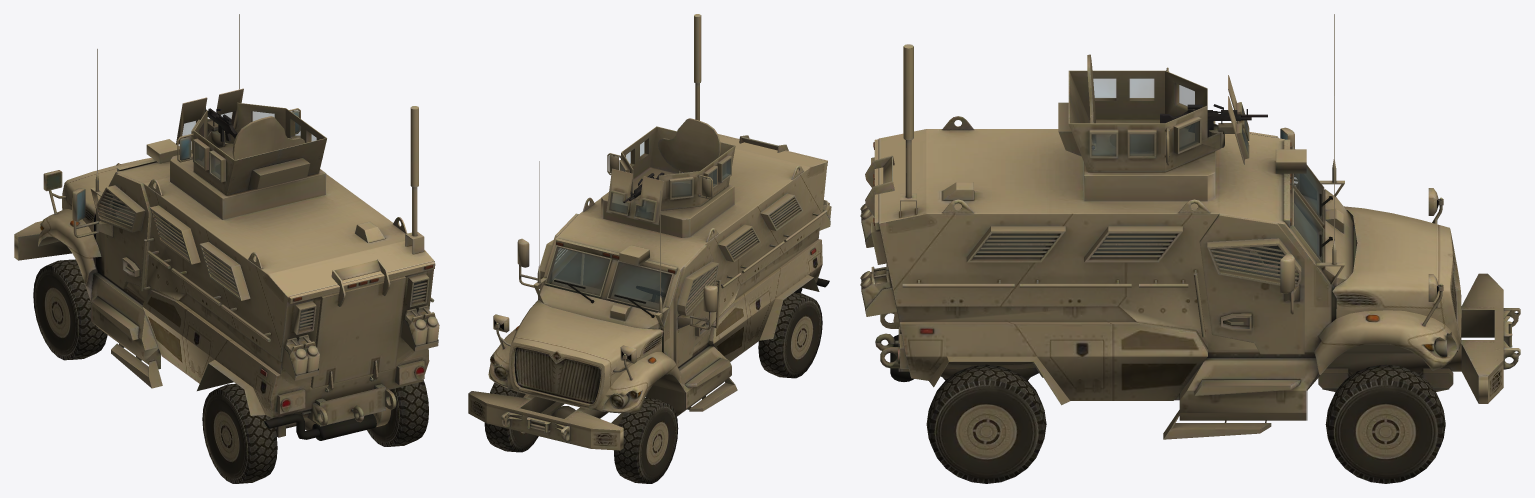
Rendered from maxx-pro-mrap-cert.glb.
3 renders of one model, left to right at view 1: azimuth 30°, elevation 25°; view 2: azimuth 150°, elevation 25°; view 3: azimuth 270°, elevation 25°, orthographic. The views are drawn at different scales.
Visible parts, largest first — view 1: MaxxPro_Hull_01_MaxxPro_Mat_0, wheel2_MaxxPro_Mat_0, wheel1_MaxxPro_Mat_0, MxPro_Turret_01_MaxxPro_Mat_Glas_0; view 2: MaxxPro_Hull_01_MaxxPro_Mat_0, wheel2_MaxxPro_Mat_0, MaxxPro_Hull_01_MaxxPro_Mat_Glas_0, wheel1_MaxxPro_Mat_0, MxPro_Turret_01_MaxxPro_Mat_Glas_0; view 3: MaxxPro_Hull_01_MaxxPro_Mat_0, wheel2_MaxxPro_Mat_0, MxPro_Turret_01_MaxxPro_Mat_Glas_0, MaxxPro_Hull_01_MaxxPro_Mat_Glas_0.
Boxes of the visible parts, x1,y1,x2,y2 form: MaxxPro_Hull_01_MaxxPro_Mat_0: (14, 14, 439, 440); wheel2_MaxxPro_Mat_0: (72, 88, 428, 483); wheel1_MaxxPro_Mat_0: (33, 259, 107, 360); MxPro_Turret_01_MaxxPro_Mat_Glas_0: (104, 111, 316, 225); MaxxPro_Hull_01_MaxxPro_Mat_0: (468, 14, 831, 450); wheel2_MaxxPro_Mat_0: (484, 118, 822, 452); MaxxPro_Hull_01_MaxxPro_Mat_Glas_0: (546, 200, 795, 309); wheel1_MaxxPro_Mat_0: (614, 398, 678, 483); MxPro_Turret_01_MaxxPro_Mat_Glas_0: (552, 142, 730, 304); MaxxPro_Hull_01_MaxxPro_Mat_0: (860, 14, 1520, 439); wheel2_MaxxPro_Mat_0: (865, 54, 1445, 483); MxPro_Turret_01_MaxxPro_Mat_Glas_0: (1092, 79, 1298, 280); MaxxPro_Hull_01_MaxxPro_Mat_Glas_0: (976, 167, 1322, 262).
Size of the model in its own units: 0.0326 by 0.0484 by 0.0678.
5 materials, 5 textured.
